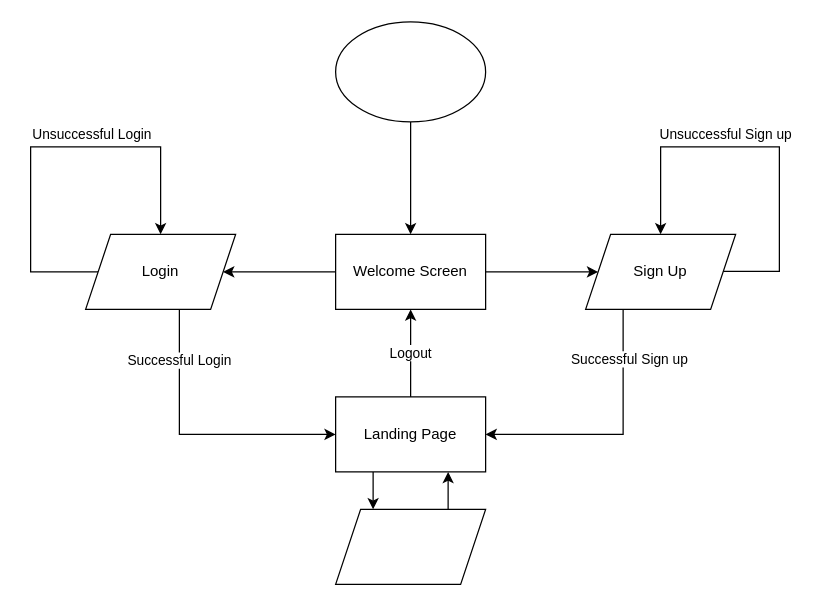
The diagram is 813 pixels wide and 616 high, and some of its shapes have lost their labels. The shapes that lost their labels are listed below. From the top down, each one's box as (x1, y1, x2, y2) in pixels, then its label:
(334, 21, 486, 122): Run program
(334, 508, 486, 584): Edit Parameters
